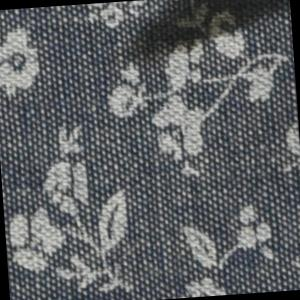Stain: (121, 1, 295, 72)
